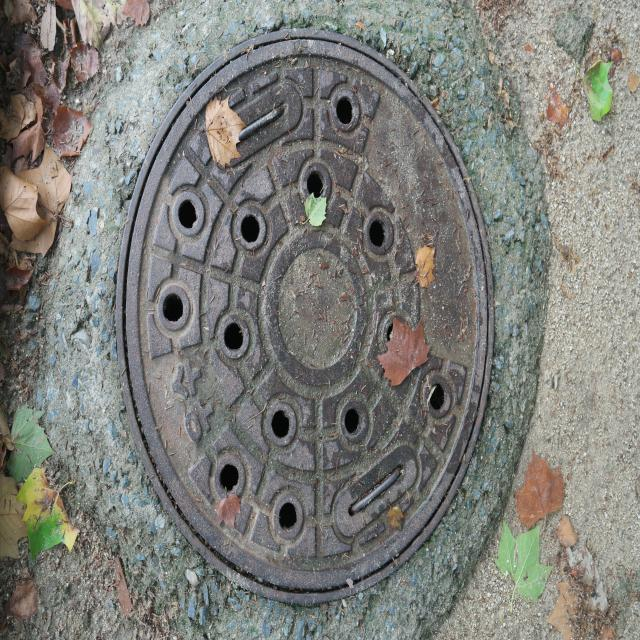manhole: (118, 31, 492, 603)
